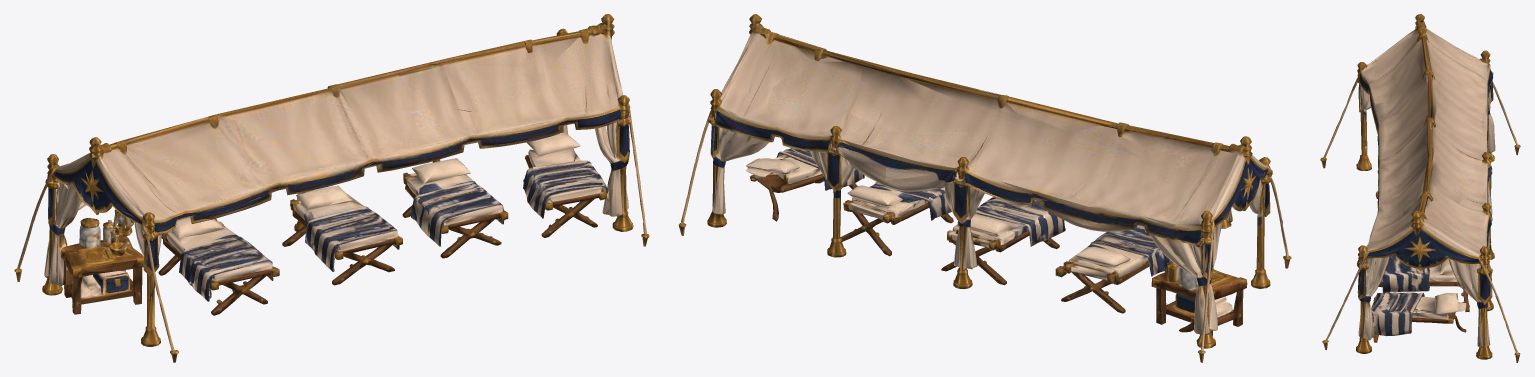
File: infirmary-tent.glb
3 views of the same model, side by side, from view 1: azimuth 30°, elevation 25°; view 2: azimuth 150°, elevation 25°; view 3: azimuth 270°, elevation 25° (orthographic). The views are drawn at different scales.
Visible parts, largest first — view 1: Mesh_0; view 2: Mesh_0; view 3: Mesh_0.
Part boxes in pixels (x1,y1,x2,y2): Mesh_0: (14,14,649,362); Mesh_0: (678,14,1291,362); Mesh_0: (1320,14,1520,362).
Bounding box in the file's own units: 15.9 × 5.17 × 6.39.
Materials: 1 (1 with a texture image).
